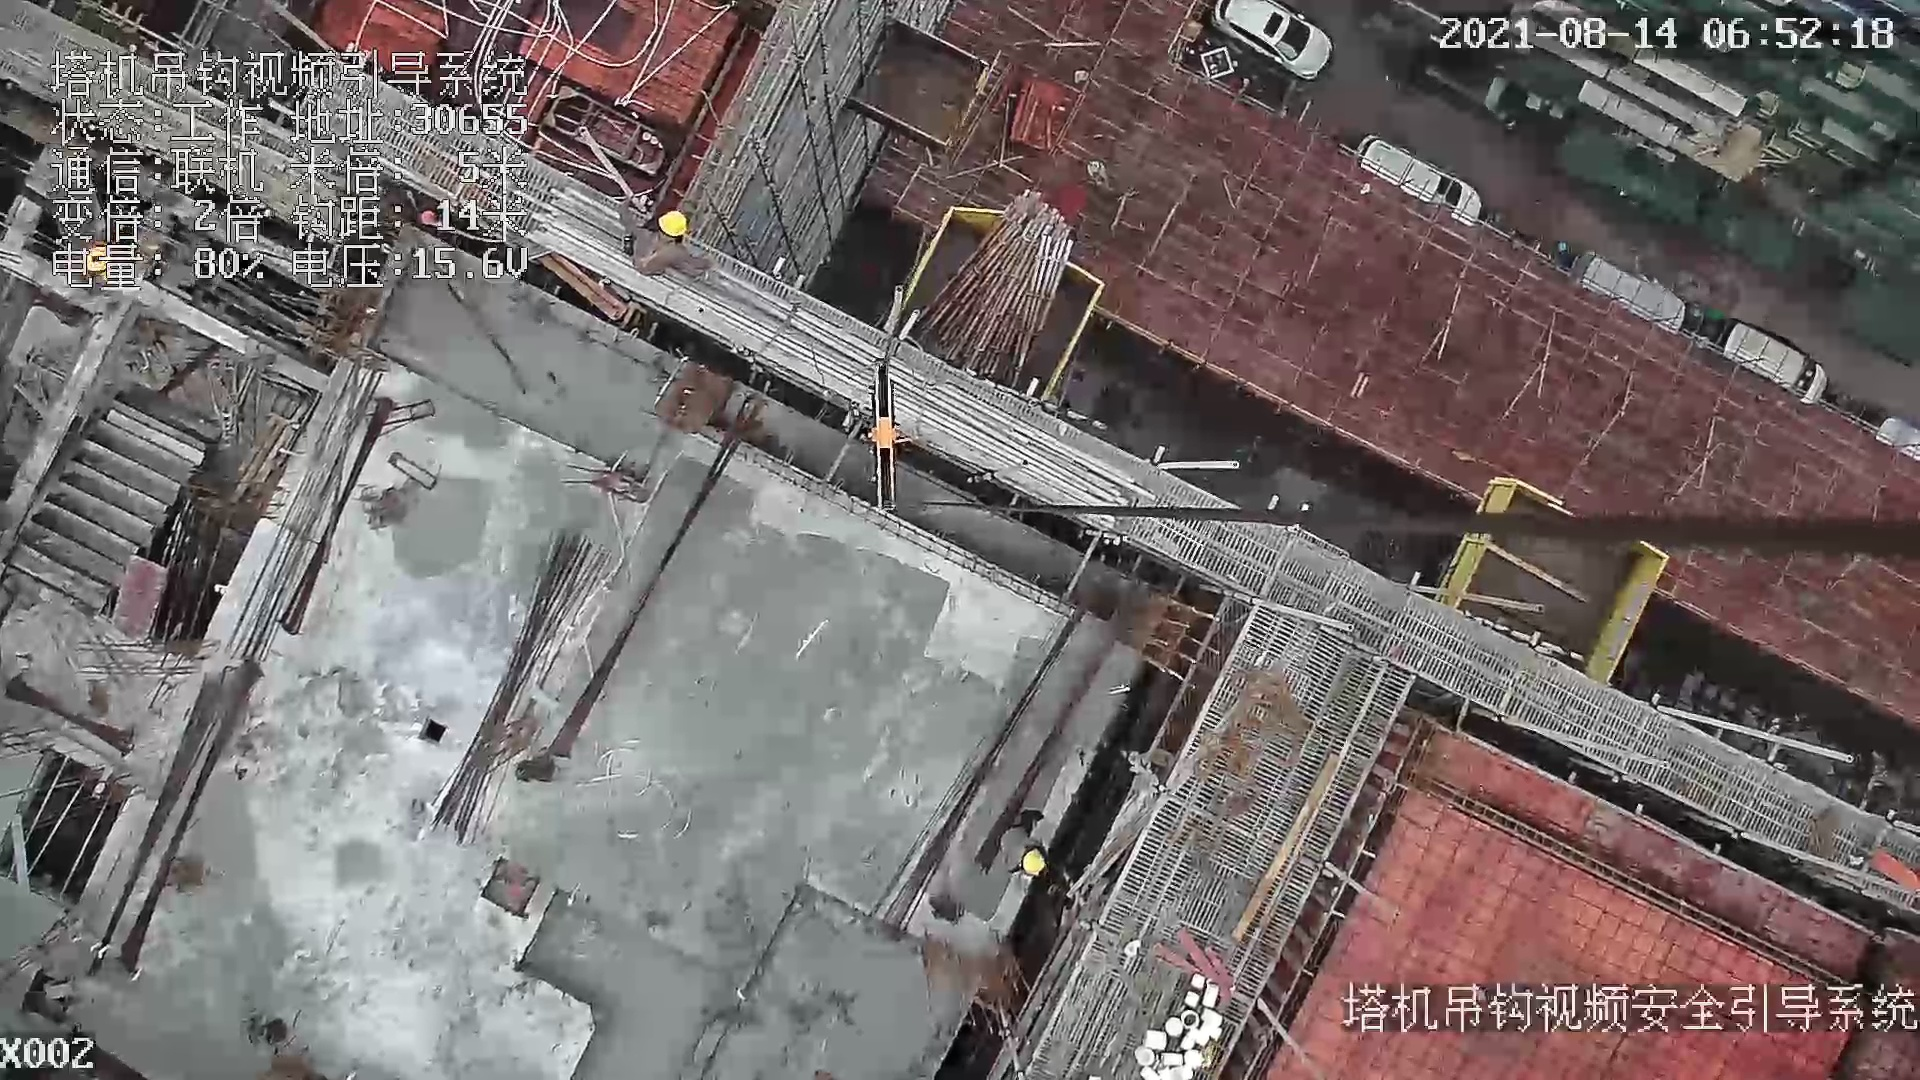helmet: (656, 210, 689, 237), (1021, 848, 1046, 876)
hook: (860, 362, 935, 517)
person: (617, 201, 714, 286), (1000, 804, 1068, 883)
rebar: (531, 184, 1143, 530), (432, 531, 611, 841)
scaffold: (911, 191, 1073, 391)
